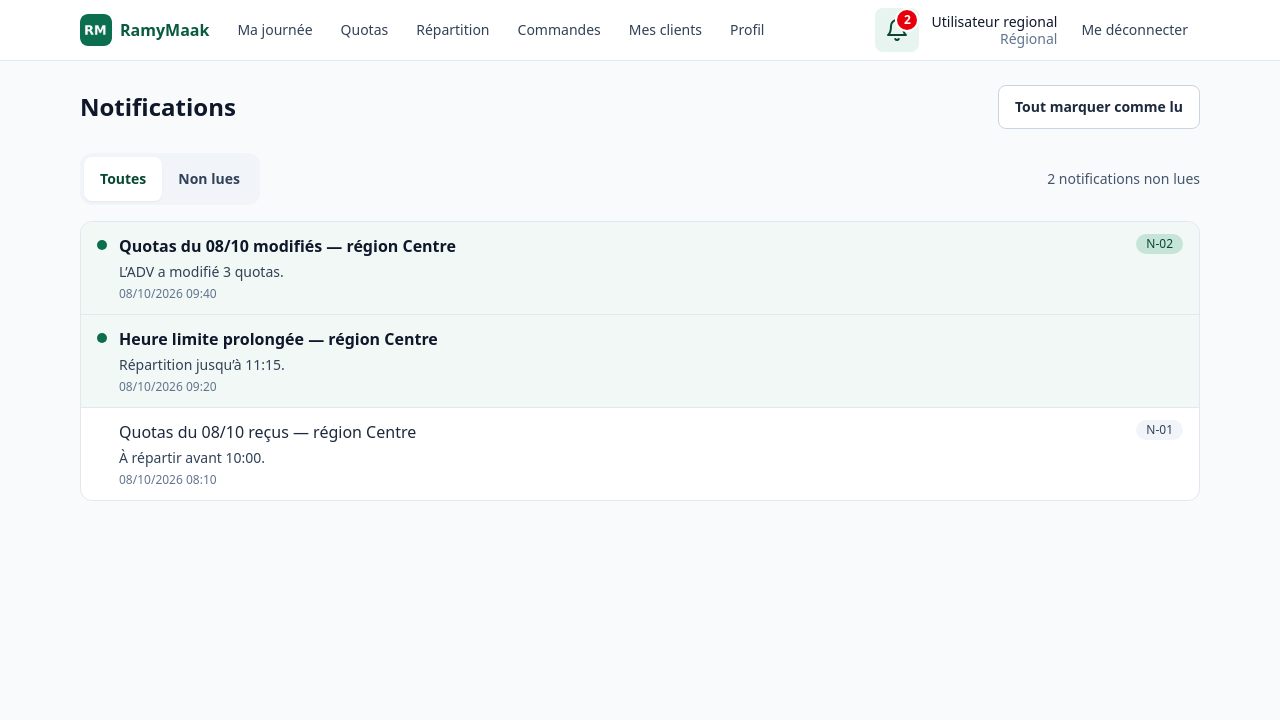
Test: notification centre › marks a notification read when it is tapped and opens its screen
The image size is (1280, 720).
Click the link "Quotas du 08/10 modifiés — région Centre": (147,245) [81,222,1199,314]
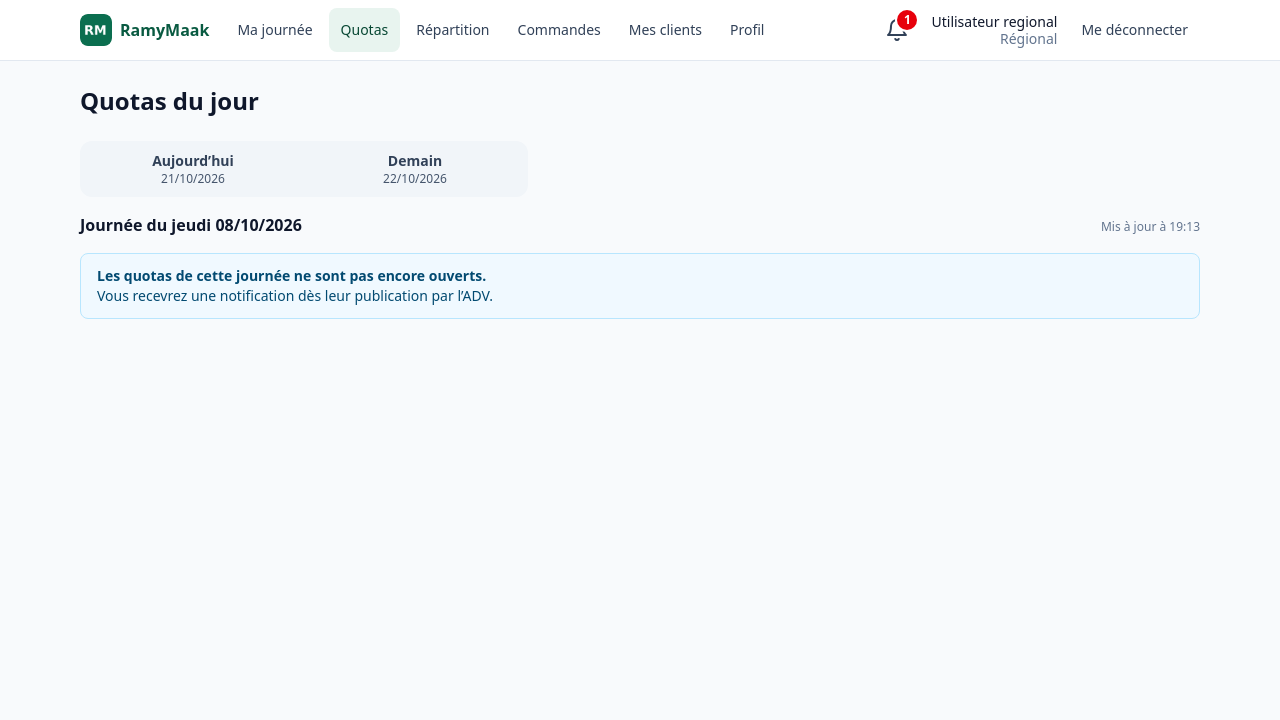
Now the link named "Notifications (1 non lue)" is shown, box [886,10,918,42]
